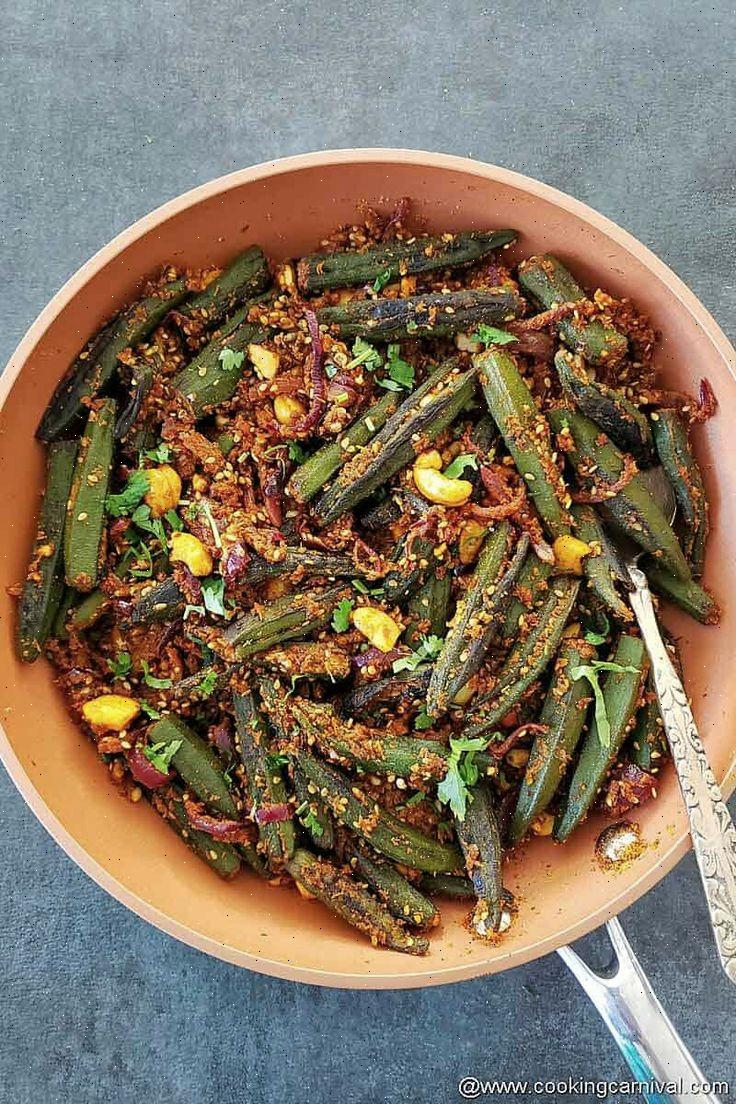bhindi: (44, 268, 736, 887)
